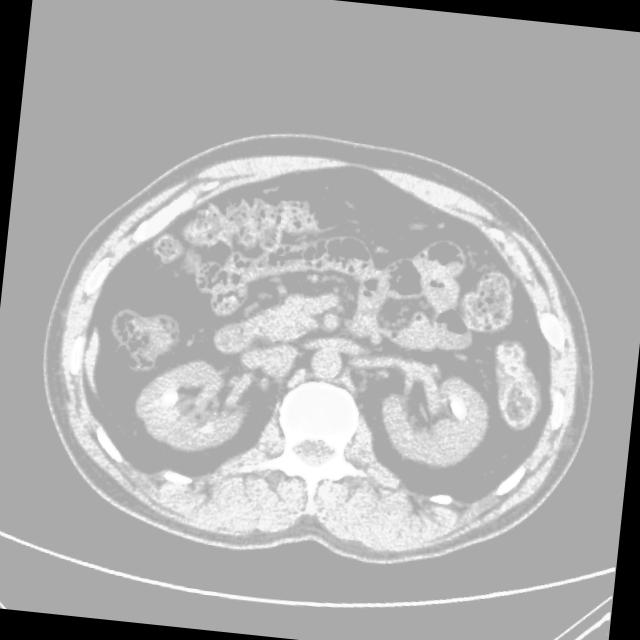STONE: (123, 261, 546, 542)
